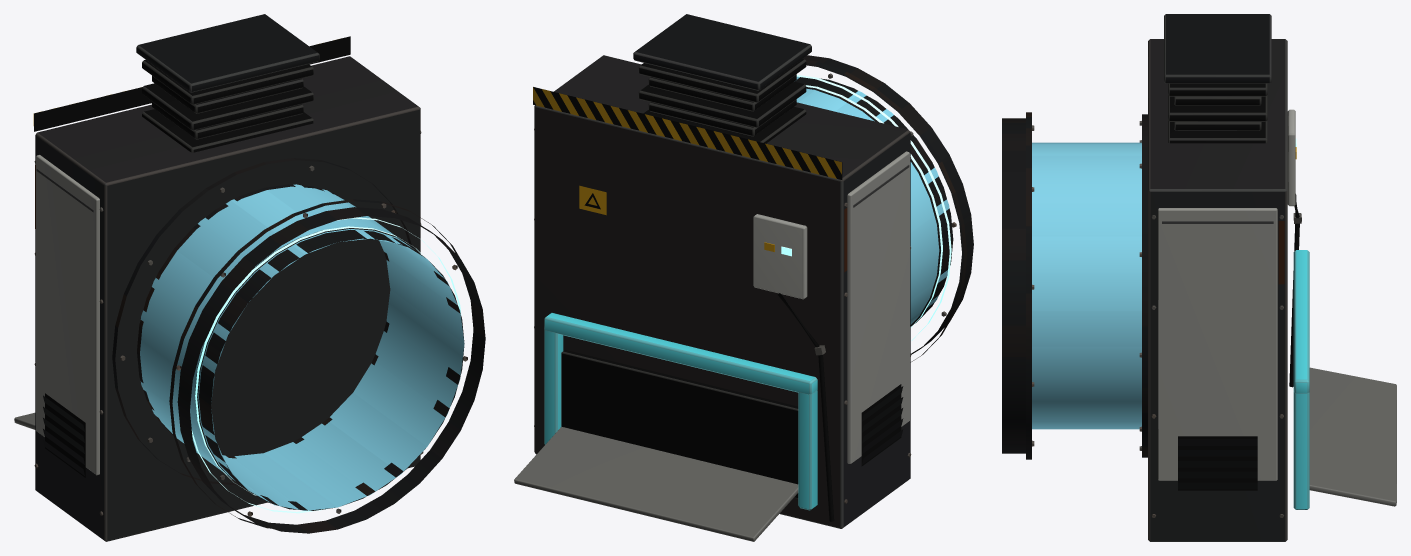
The model's file is concept_tube_receiver.glb.
3 views of the same model, side by side, from view 1: azimuth 30°, elevation 25°; view 2: azimuth 150°, elevation 25°; view 3: azimuth 270°, elevation 25° (orthographic). The views are drawn at different scales.
Parts seen in each view (by area): view 1: Frame, Glass, Bellows; view 2: Frame, Bellows, Glass; view 3: Frame, Glass, Bellows.
Part boxes in pixels (left/top/right/bottom): Frame: left=14, top=36, right=485, bottom=541; Glass: left=140, top=184, right=464, bottom=510; Bellows: left=136, top=14, right=319, bottom=152; Frame: left=514, top=55, right=973, bottom=541; Bellows: left=633, top=14, right=811, bottom=143; Glass: left=796, top=76, right=949, bottom=324; Frame: left=1002, top=39, right=1396, bottom=541; Glass: left=1032, top=142, right=1141, bottom=429; Bellows: left=1164, top=14, right=1271, bottom=143.
Size of the model in its own units: 1.87 by 2.33 by 1.98.
